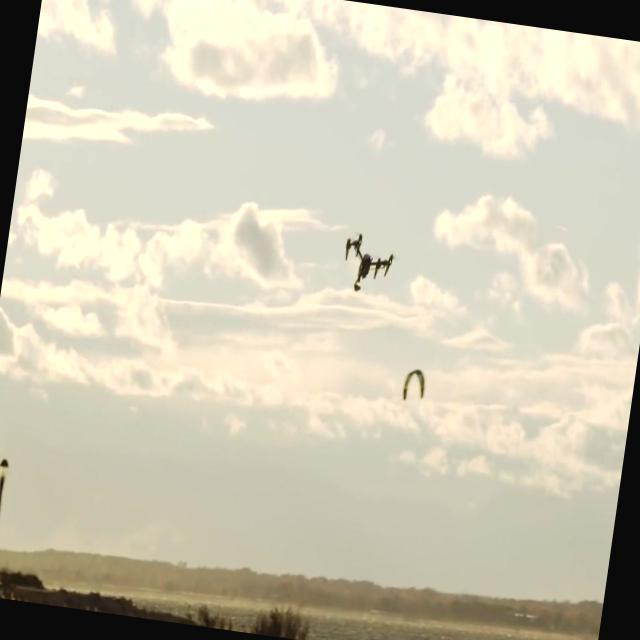drone: (338, 228, 398, 298)
